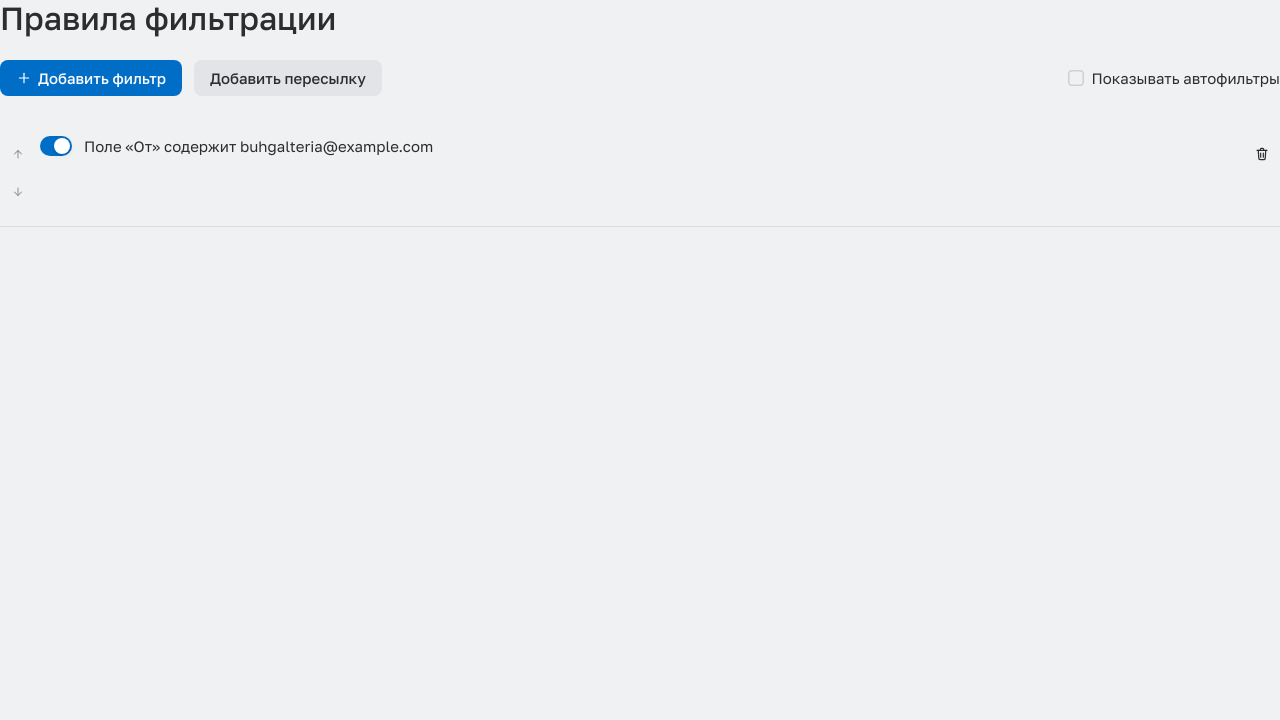
Scenario: удаление правила фильтрации › отказ сервера остаётся на глазах, окно не закрывается
Click the button named "Удалить правило" at (1262, 154), box top-left (1244, 136), bottom-right (1279, 172)
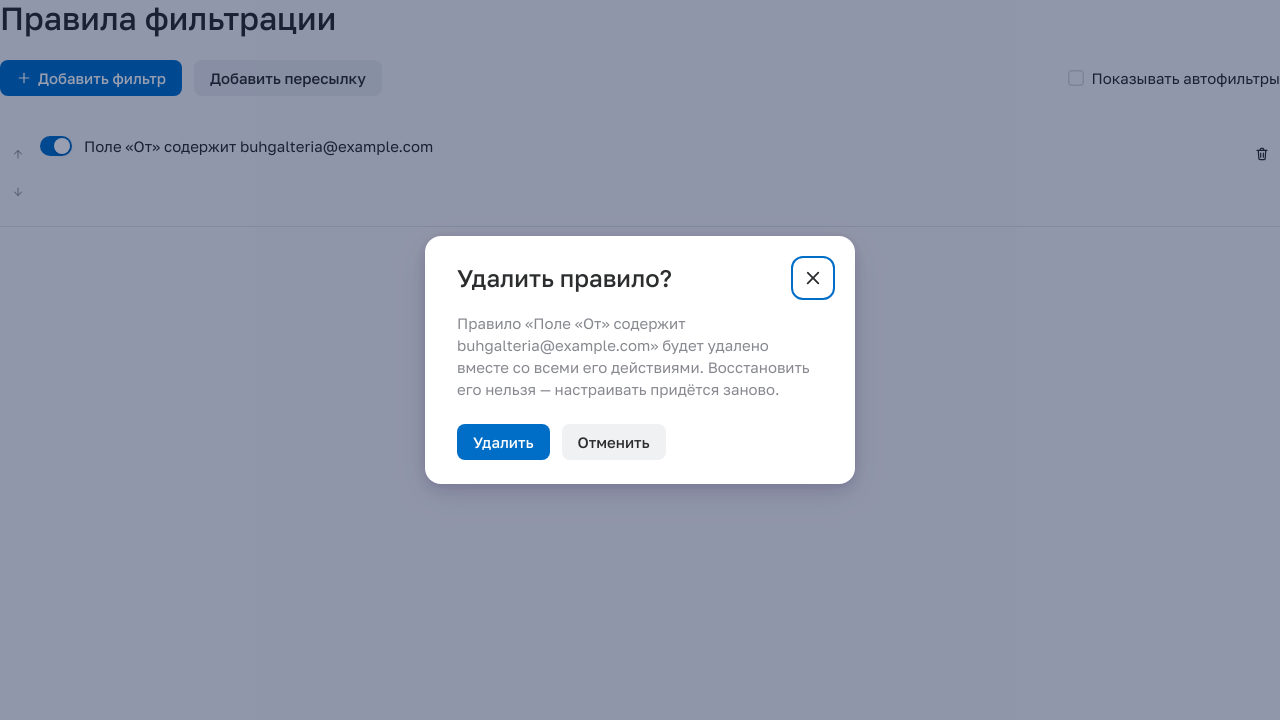
Click the button "Удалить" at (503, 442), box top-left (457, 424), bottom-right (550, 460)
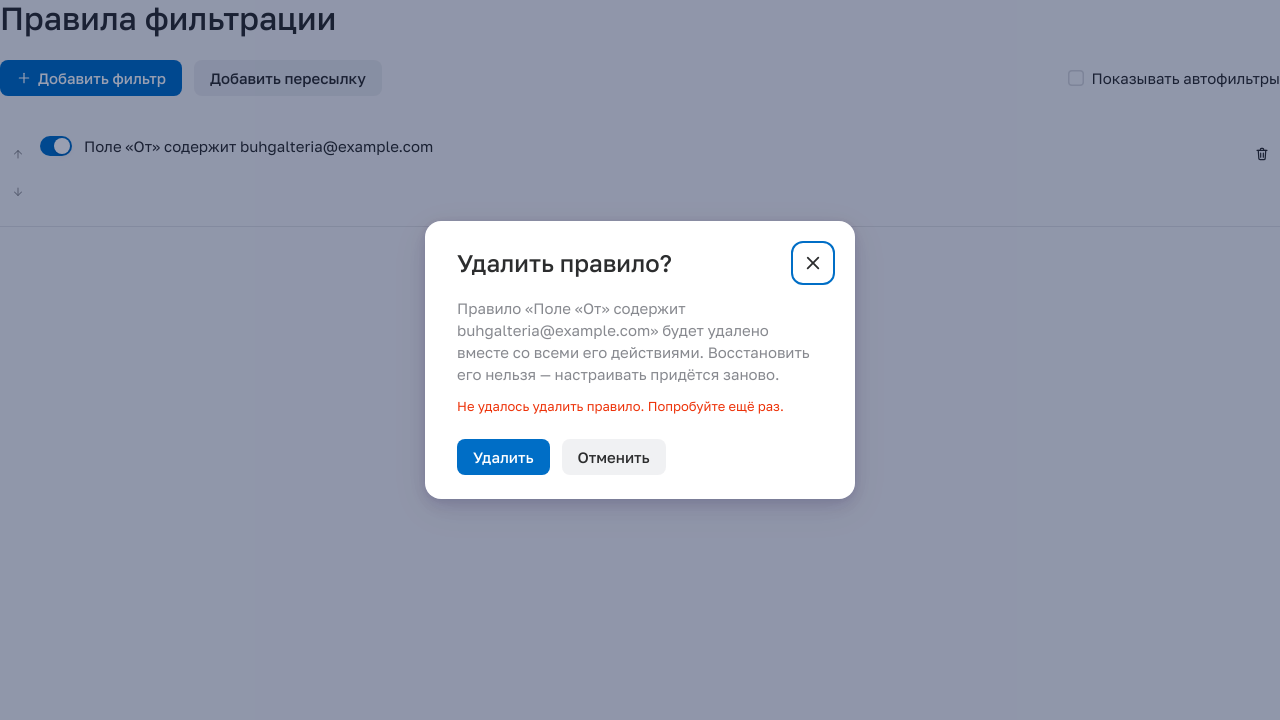
Now the text "Удалить правило?" is shown, box top-left (457, 248), bottom-right (672, 277)
Now the text "Не удалось удалить правило" is shown, box top-left (457, 398), bottom-right (784, 414)
